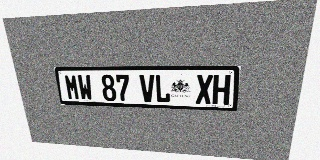7: (115, 74, 131, 102)
8: (101, 74, 117, 101)
H: (212, 75, 231, 105)
L: (155, 75, 170, 103)
M: (64, 74, 80, 100)
V: (139, 75, 155, 102)
W: (77, 74, 93, 101)
X: (196, 75, 213, 104)
